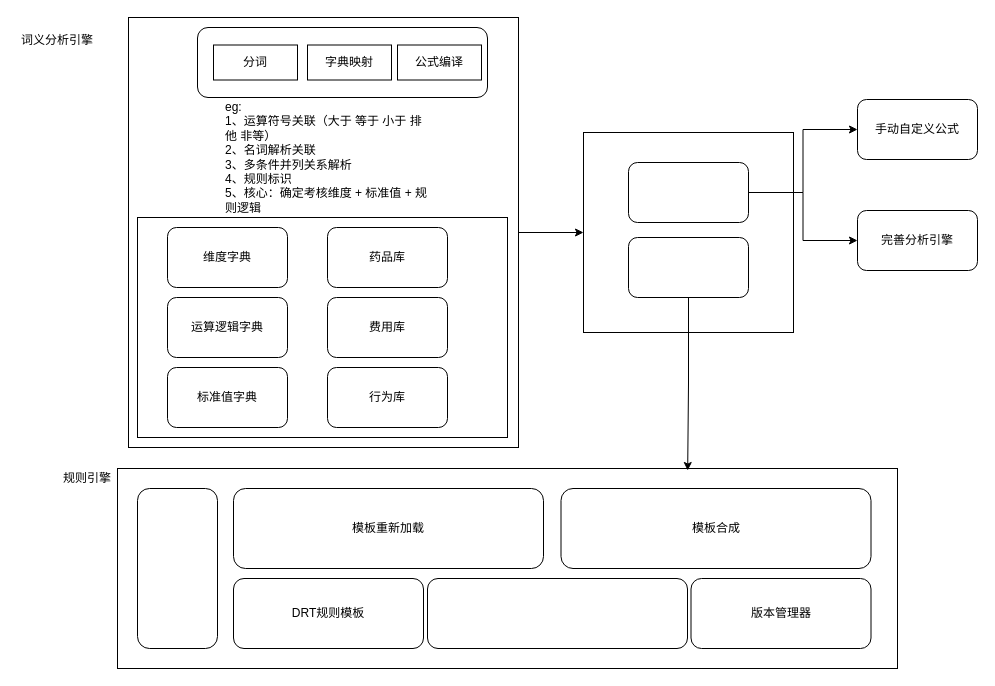
This 995x686 diagram has some shape labels left out. The shapes that lost their labels are listed below. From the top down, each one's centre as x and y in pixels, then its label:
At [688,192]: "未生成公式的数据".
At [688,267]: "Drools 模板公式".
At [177,568]: "规则自我优化".
At [557,613]: "DRL 规则文件库".
